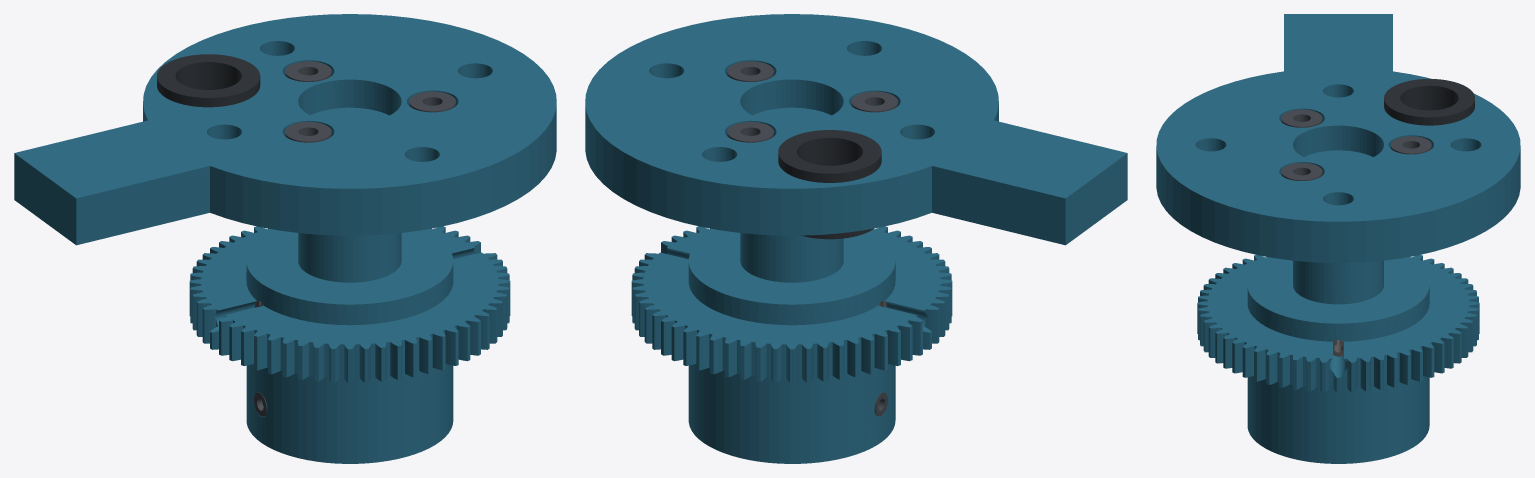
3 views of the same model, side by side, from view 1: azimuth 30°, elevation 25°; view 2: azimuth 150°, elevation 25°; view 3: azimuth 270°, elevation 25° (orthographic). The views are drawn at different scales.
Parts seen in each view (by area): view 1: link; view 2: link; view 3: link.
Boxes of the visible parts, x1,y1,x2,y2 form: link: (14,14,556,463); link: (585,14,1127,463); link: (1156,14,1520,463).
Size of the model in its own units: 0.054 by 0.04 by 0.035.
